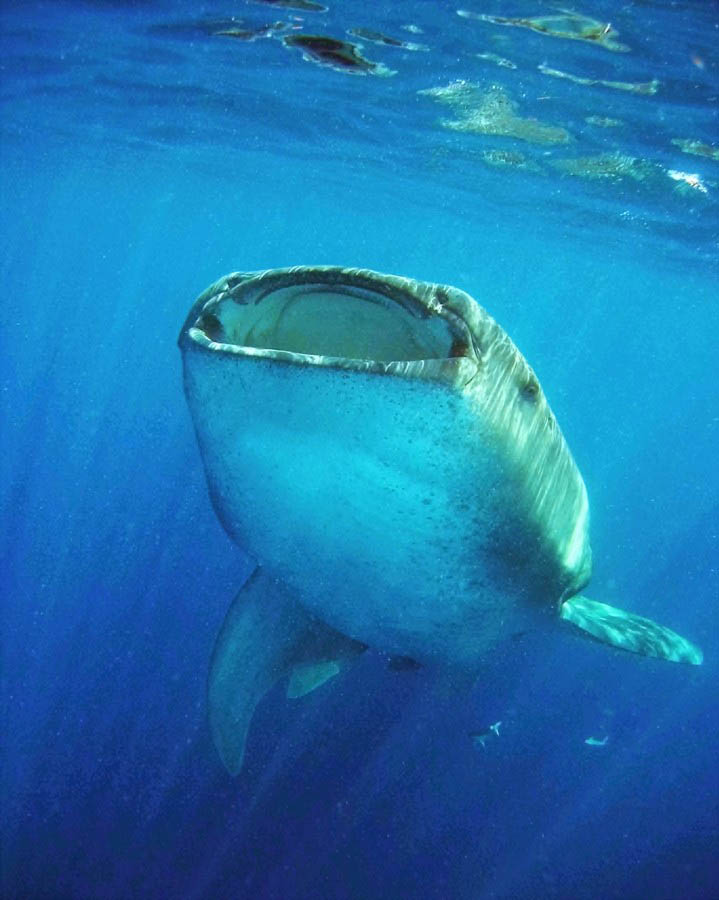Rhincodon_typusw: (147, 227, 719, 801)
